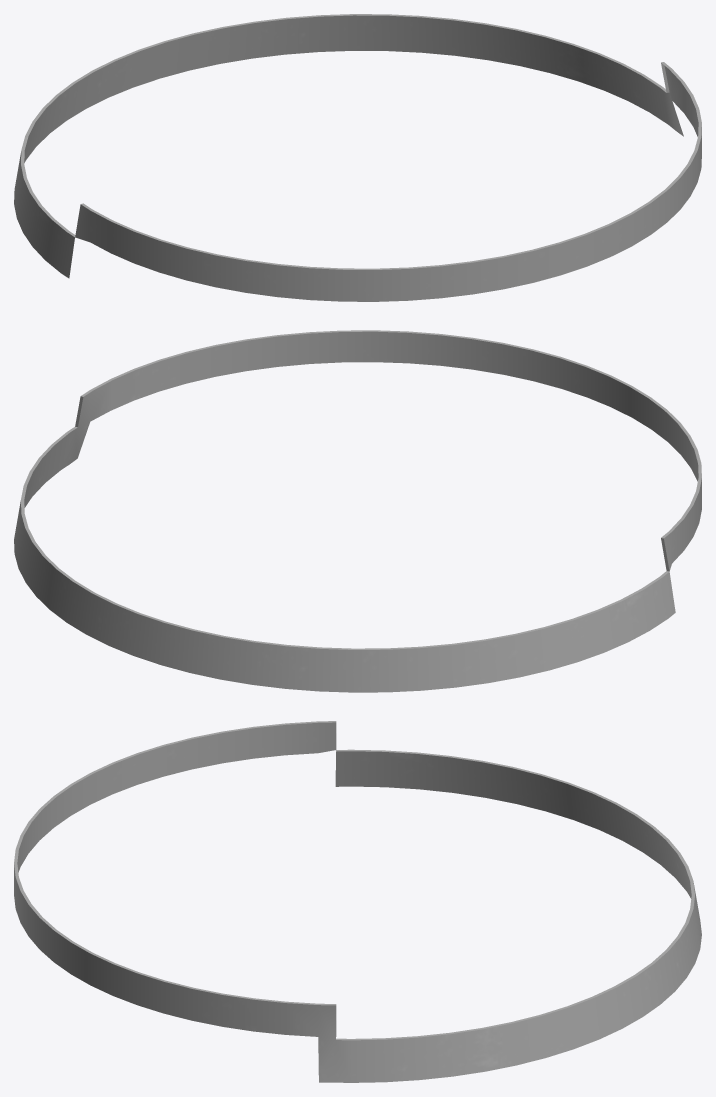
Rendered from SM_CoolantTower_LSE_Unique_Reactor.fbx.
The picture shows the model from 3 angles, top to bottom: view 1: azimuth 30°, elevation 25°; view 2: azimuth 150°, elevation 25°; view 3: azimuth 270°, elevation 25°; orthographic projection.
Parts seen in each view (by area): view 1: CoolantTower.004; view 2: CoolantTower.004; view 3: CoolantTower.004.
Boxes of the visible parts, x1,y1,x2,y2 form: CoolantTower.004: (14, 14, 701, 301); CoolantTower.004: (14, 330, 701, 692); CoolantTower.004: (14, 721, 701, 1082).
Size of the model in its own units: 5981 by 673 by 5867.
